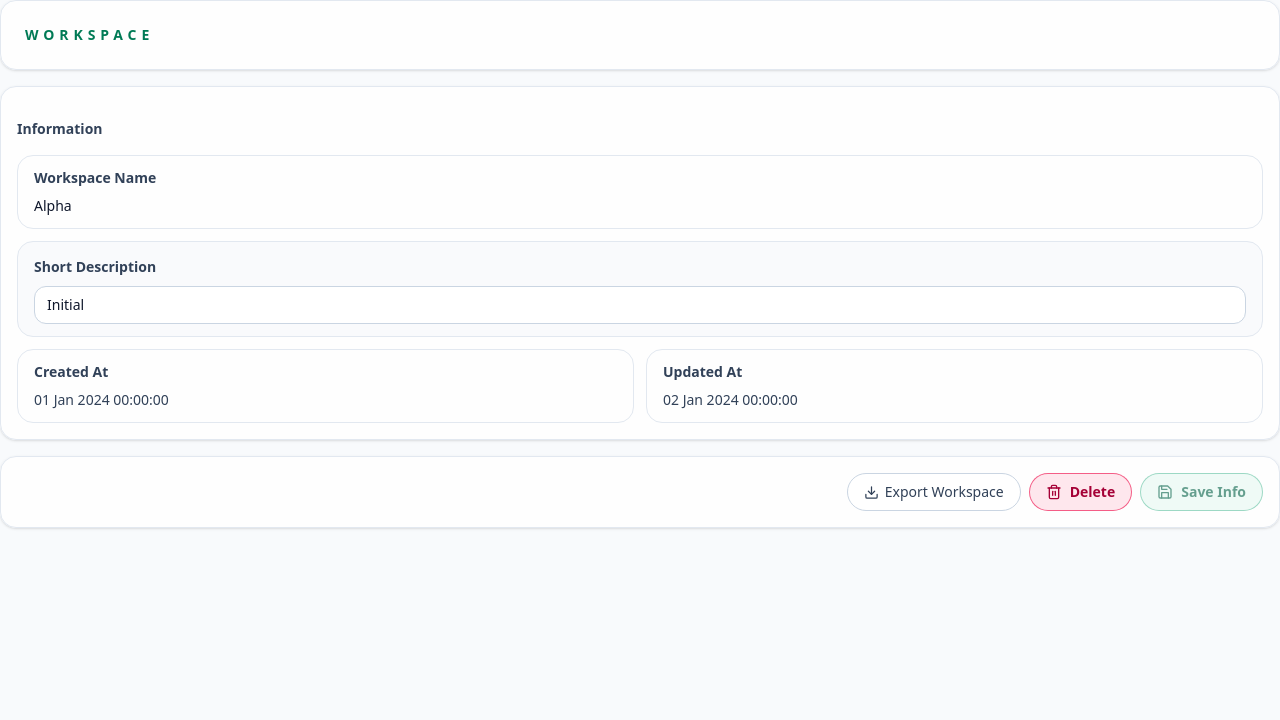
Scenario: WorkspacePage › surfaces save errors
Replace the text in the field labelled "Short Description" with "Updated". click: (640, 305)
box: left=34, top=286, right=1246, bottom=324
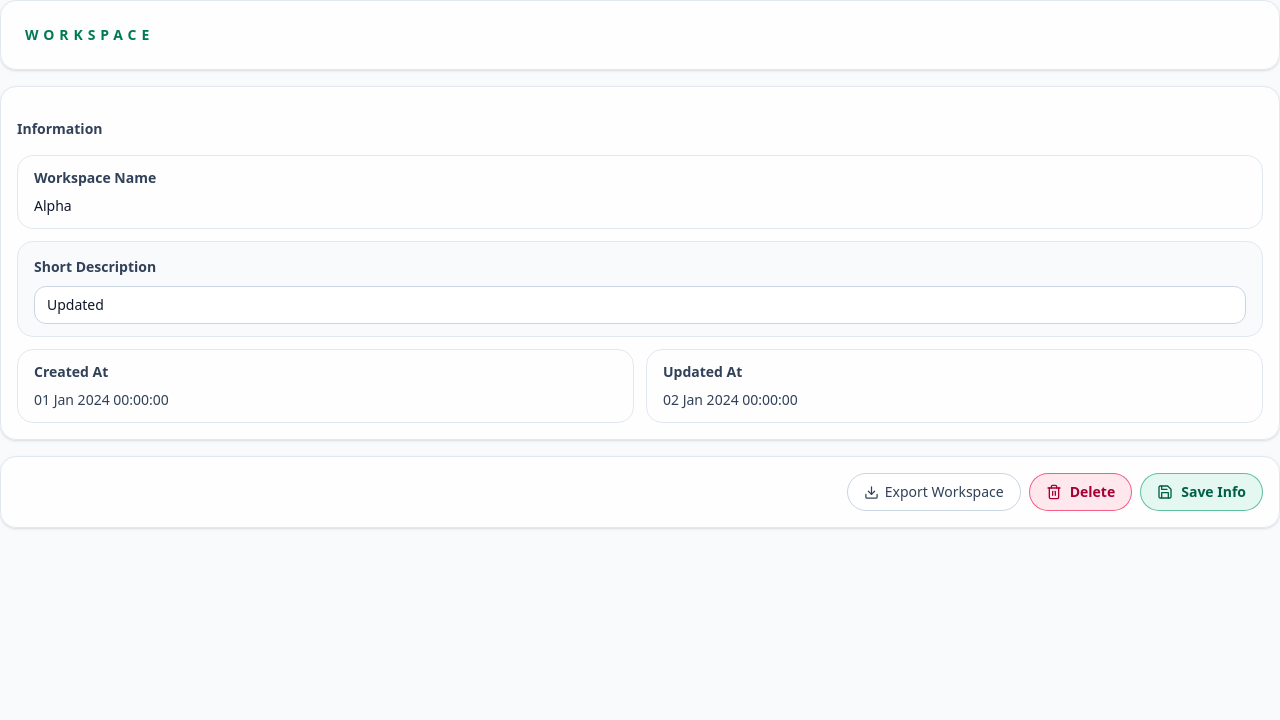
Click the button "Save Info". click: (1202, 492)
box: left=1140, top=473, right=1263, bottom=511
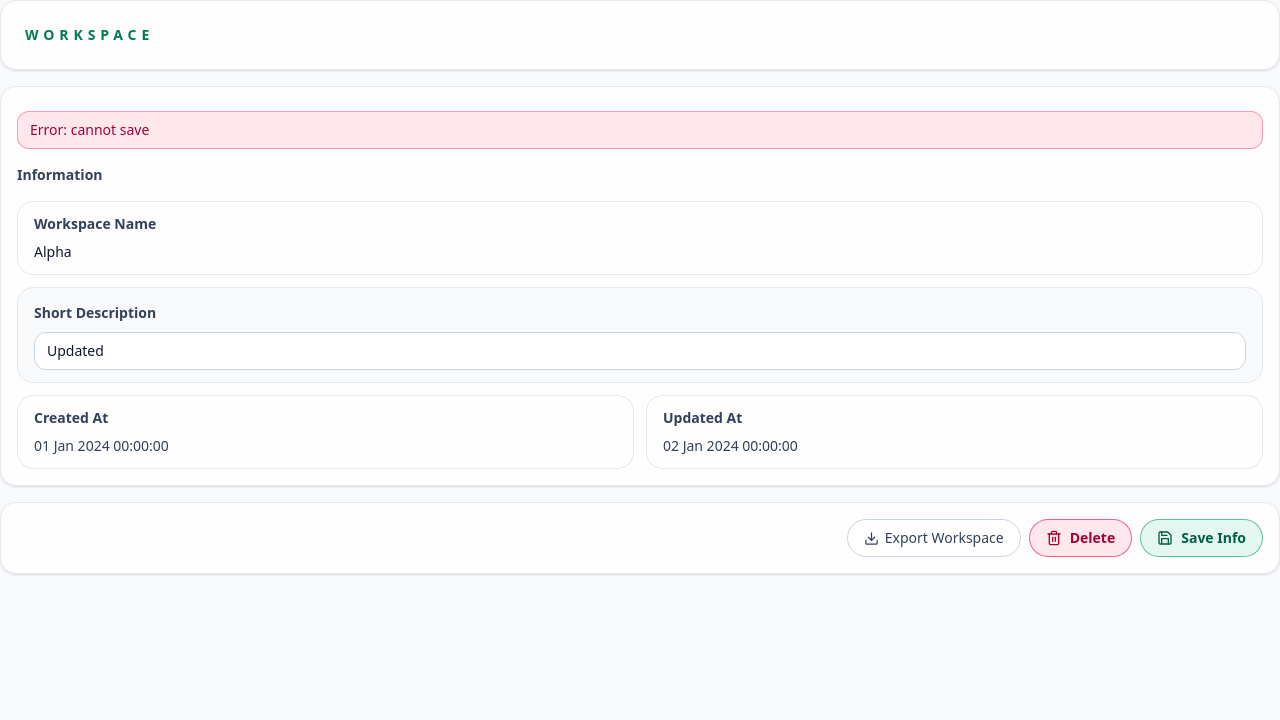
Now the text "Error: cannot save" is shown, box left=17, top=111, right=1263, bottom=149
